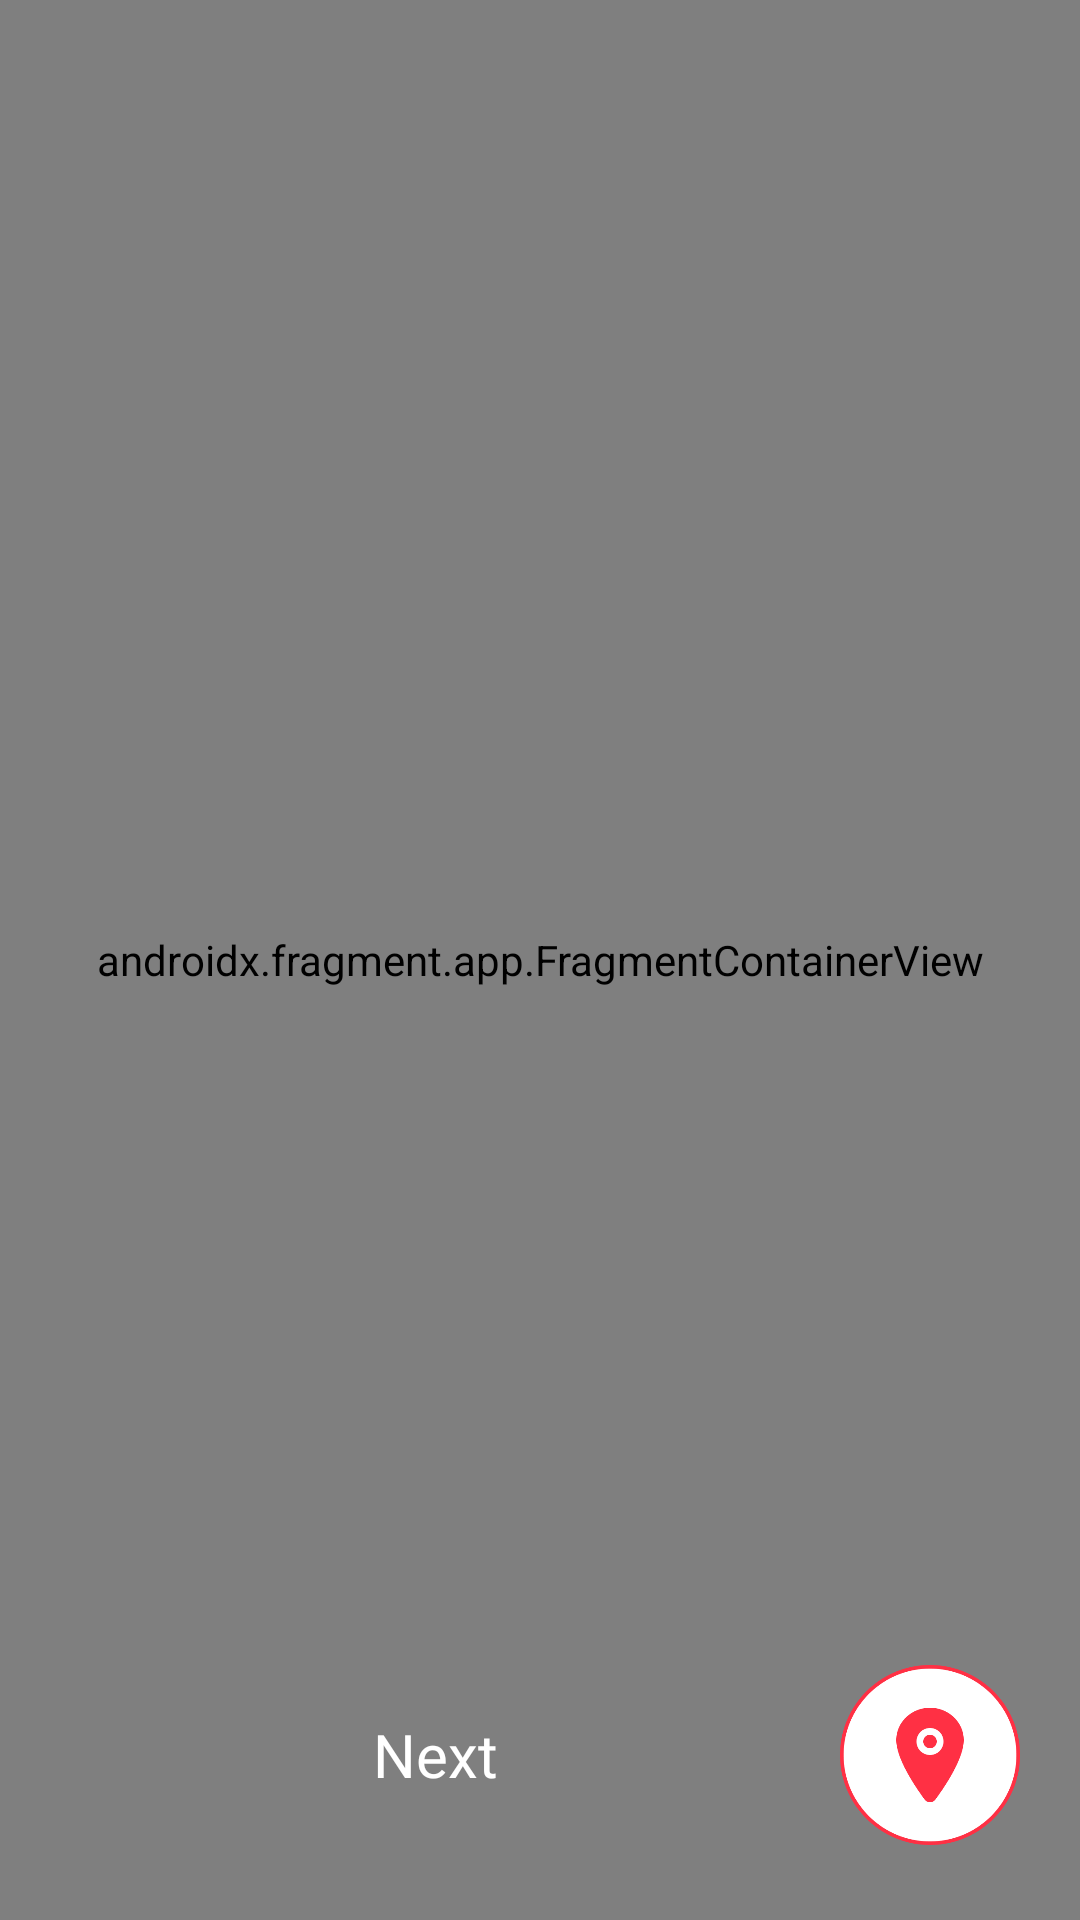

Named icons in this screenshot (1080w x 1920h) and their centers, (x=x, y=y):
relocate: (x=930, y=1755)
